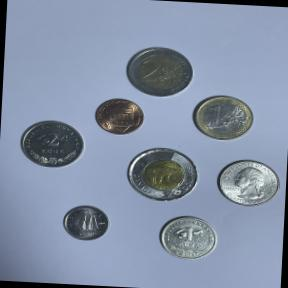1 Euro: (190, 92, 258, 142)
2 Euro: (122, 43, 200, 100)
Canda-10cent-: (58, 200, 114, 244)
Canda-2Dollar-: (122, 144, 205, 206)
Croatia-2Kune-: (16, 117, 89, 172)
US-1cent-: (91, 96, 150, 138)
US-25cent-: (213, 155, 284, 211)
